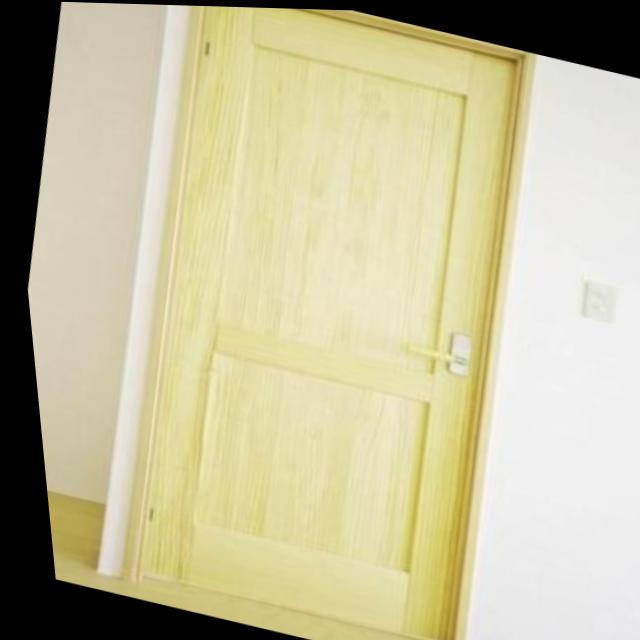door_handle: (388, 330, 465, 371)
